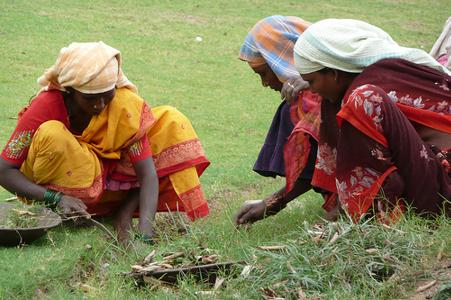person: (1, 39, 212, 251)
